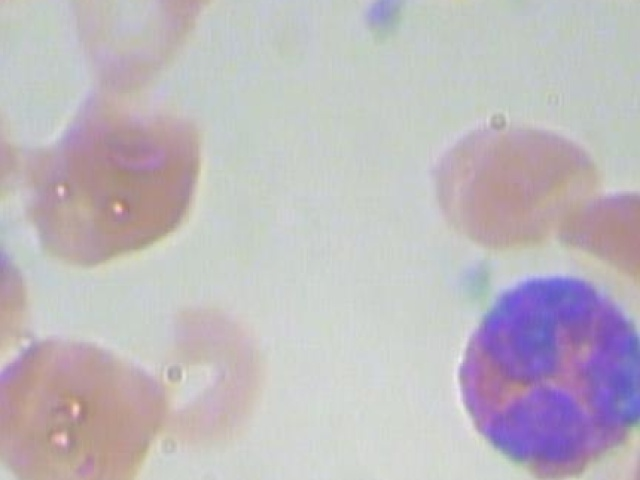Platelets: (353, 0, 416, 50)
RBC: (21, 93, 225, 269), (414, 106, 600, 256), (0, 332, 170, 480), (135, 302, 273, 450), (60, 0, 201, 97), (0, 218, 33, 376), (113, 0, 255, 7)
WBC: (436, 267, 640, 480)
